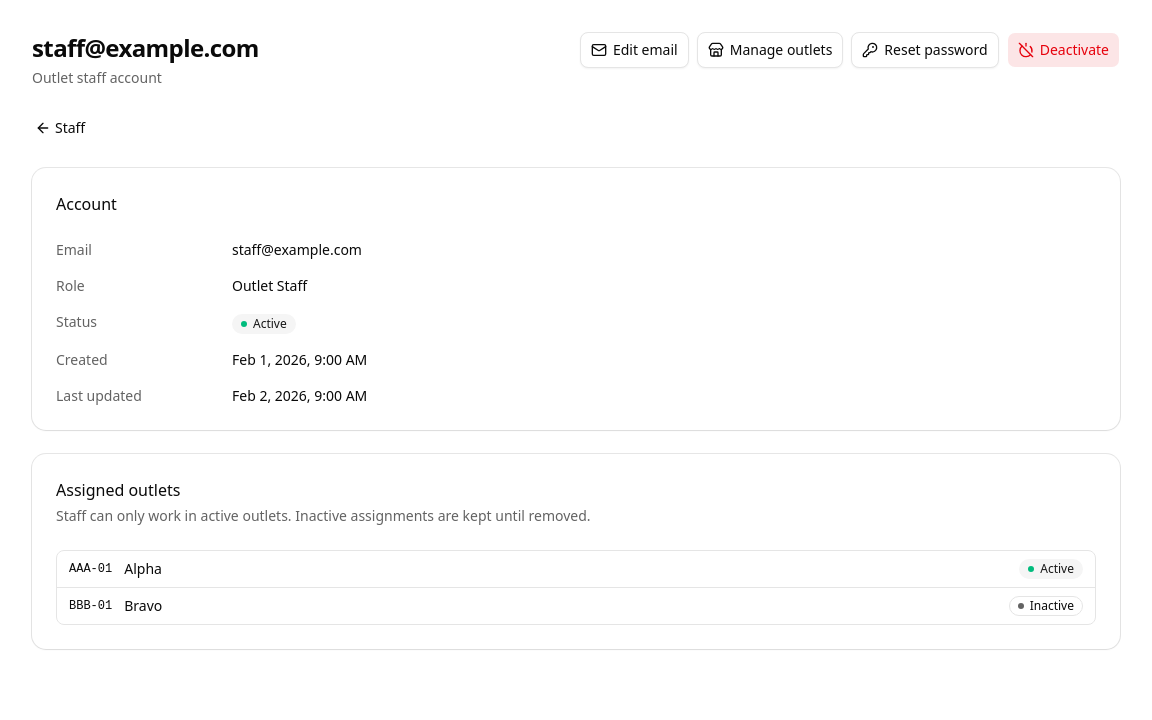
Scenario: Outlet assignments › keeps the in-progress selection when the staff record refetches in the background
Click the button "Manage outlets": {"x": 770, "y": 50} [697,32,843,68]
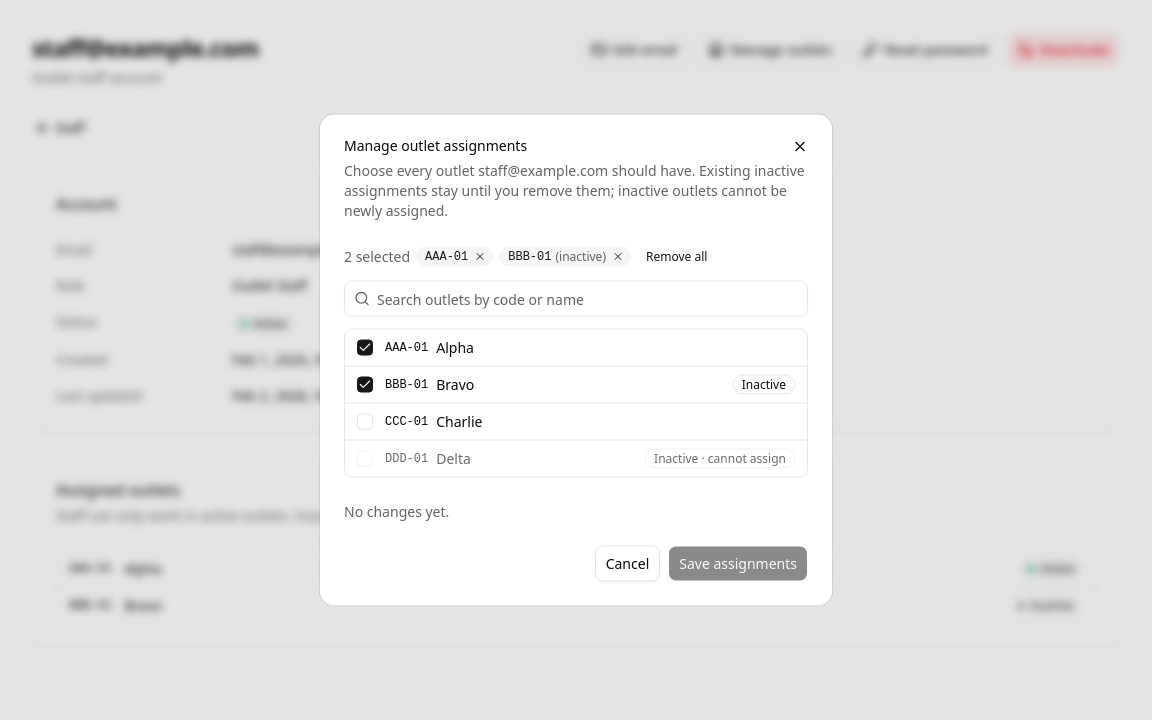
Check: the 1st checkbox named "AAA-01" is shown, box [357,340,373,356]
Click the checkbox named "CCC-01" next to "CCC-01": {"x": 365, "y": 422} [357,414,373,430]
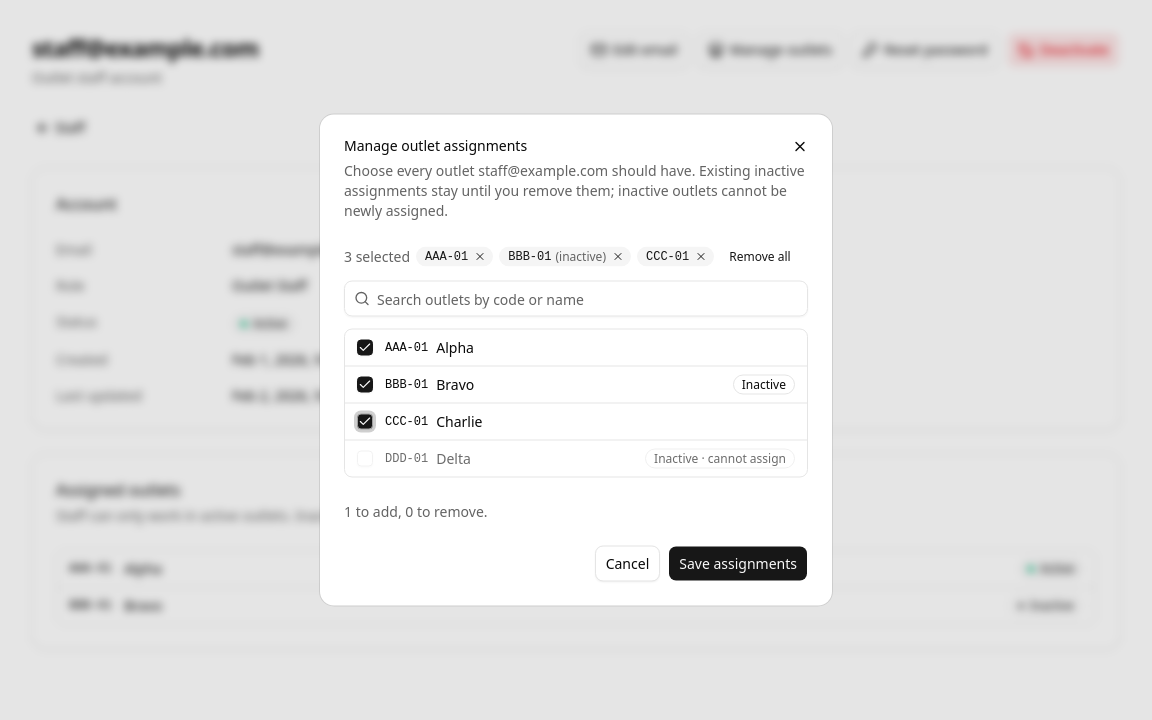
Check: the checkbox named "CCC-01" in the row of "Charlie" is checked, box [357,414,373,430]
Check: the text "1 to add, 0 to remove." is shown, box [344,502,488,520]
